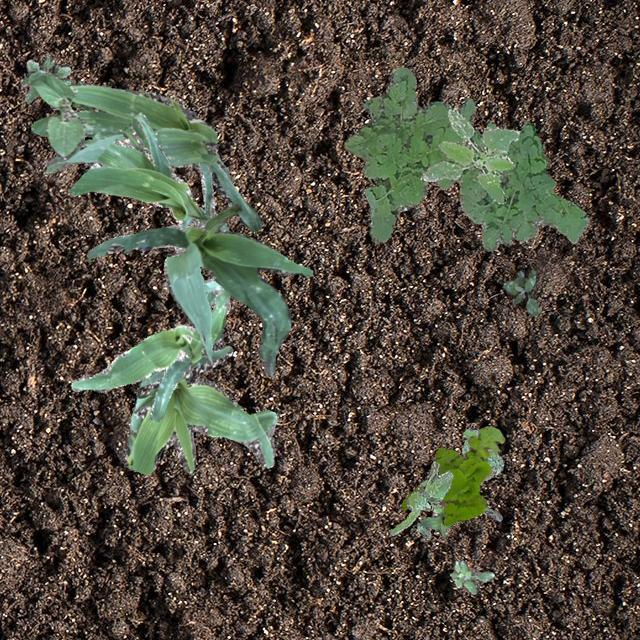crop: (86, 202, 312, 376), (29, 80, 260, 234), (68, 110, 228, 306), (70, 278, 230, 422), (122, 331, 276, 474), (26, 70, 84, 158), (416, 506, 502, 538)
weed: (342, 66, 588, 250), (401, 424, 504, 524), (419, 108, 518, 202), (389, 460, 452, 534), (20, 53, 70, 103), (460, 428, 502, 479), (502, 268, 540, 316), (448, 560, 494, 592)
